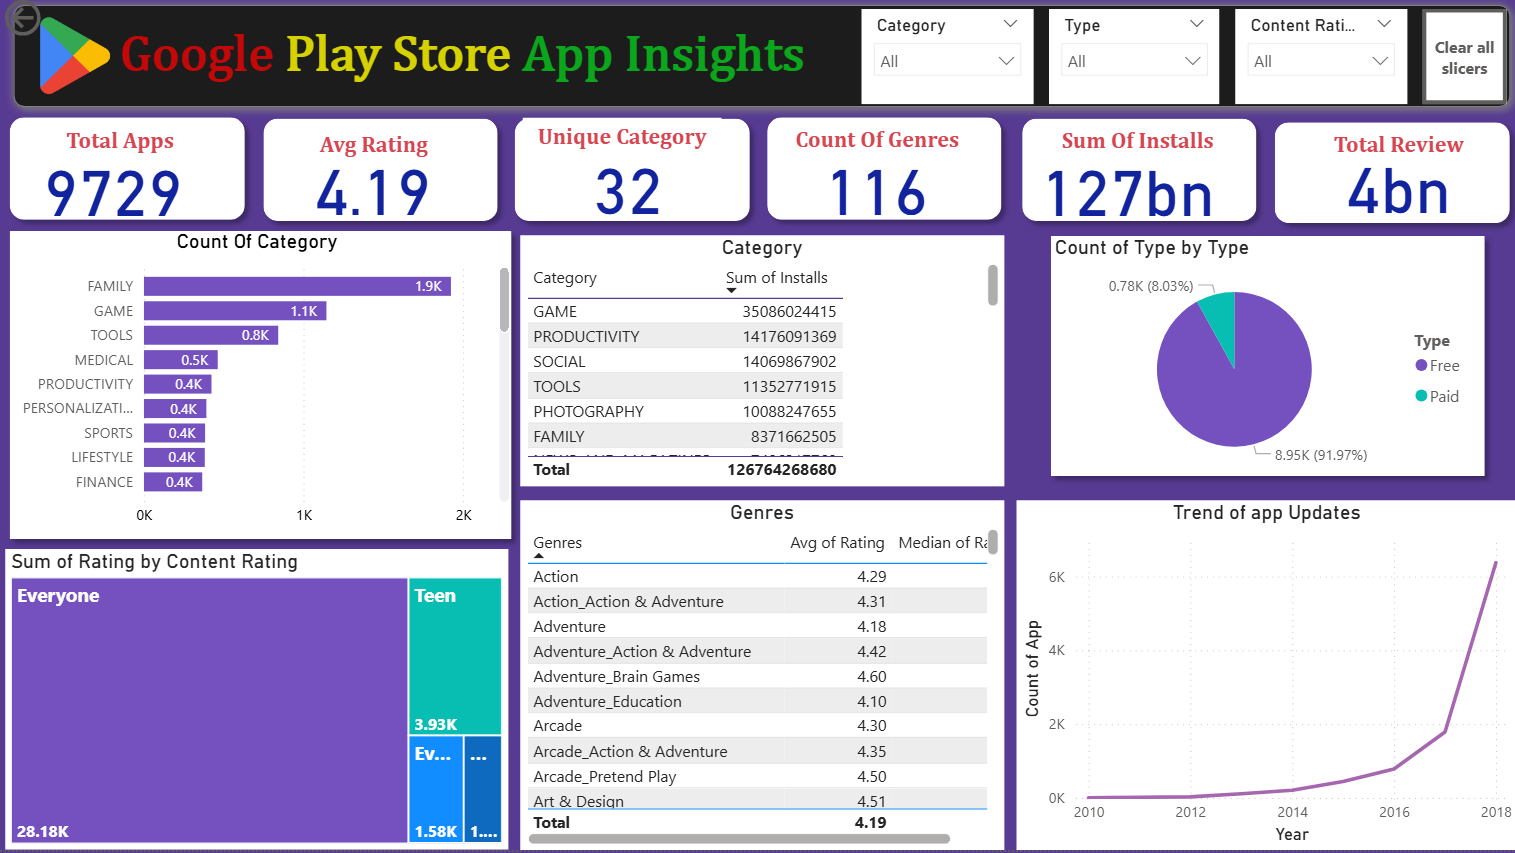

This screenshot's page, from the dashboard's own definition file:
{"tool":"powerbi","page":{"name":"Page 1","canvas":[1280,720],"ordinal":0},"visuals":[{"type":"shape","box":[2.9,0,1277.1,104.3],"z":0},{"type":"image","box":[0,1.4,128.6,101.4],"z":1000},{"type":"textbox","box":[0,12.9,792.9,84.3],"z":2000},{"type":"shape","box":[36.8,281.9,354.3,90],"z":3000},{"type":"slicer","fields":{"Values":["googleplaystore.Type"]},"box":[46.7,232.1,388,85.3],"z":4000},{"type":"shape","box":[213.3,95.7,215,104.3],"z":5000},{"type":"card","fields":{"Values":["Avg(googleplaystore.Rating)"]},"box":[224.3,127.8,181.4,62.9],"z":6000},{"type":"shape","box":[0,94.3,215.7,104.3],"z":7000},{"type":"textbox","box":[243.7,110.3,142.7,36],"z":8000},{"type":"card","fields":{"Values":["CountNonNull(googleplaystore.App)"]},"box":[18.6,78.6,154.3,164.3],"z":9000},{"type":"textbox","box":[30,107.1,142.9,38.6],"z":10000},{"type":"shape","box":[424.3,95.7,215.7,104.3],"z":11000},{"type":"card","fields":{"Values":["Count(googleplaystore.Category)"]},"box":[451.9,118,154.3,82.9],"z":12000},{"type":"shape","box":[1064.3,98.6,215.7,102.9],"z":13000},{"type":"textbox","box":[1105.7,110,142.9,38.6],"z":14000},{"type":"textbox","box":[440.4,104.6,167.1,38.6],"z":15000},{"type":"shape","box":[637.6,94.3,215,104.3],"z":16000},{"type":"card","fields":{"Values":["Count(googleplaystore.Genres)"]},"box":[652.8,127.8,170,62.9],"z":17000},{"type":"textbox","box":[660.4,106.6,157.1,38.6],"z":18000},{"type":"shape","box":[851.9,95.7,215,104.3],"z":19000},{"type":"card","fields":{"Values":["Sum(googleplaystore.Installs)"]},"box":[856.1,127.1,187.1,67.1],"z":20000},{"type":"textbox","box":[886.1,107.1,142.9,38.6],"z":21000},{"type":"card","fields":{"Values":["Sum(googleplaystore.Reviews)"]},"box":[1092.9,127.1,170,62.9],"z":22000},{"type":"shape","box":[0,190,440,277.1],"z":23000},{"type":"barChart","title":"Count Of Category","fields":{"Y":["CountNonNull(googleplaystore.Category)"],"Category":["googleplaystore.Category"]},"box":[0,197.1,434.3,258.6],"z":24000},{"type":"treemap","fields":{"Values":["Sum(googleplaystore.Rating)"],"Group":["googleplaystore.Content Rating"]},"box":[5.7,467.1,422.9,252.9],"z":25000},{"type":"shape","box":[875.7,194.3,382.9,220],"z":26000},{"type":"tableEx","title":"Category","fields":{"Values":["googleplaystore.Category","Sum(googleplaystore.Installs)"]},"box":[438.6,202.9,407.1,211.4],"z":27000},{"type":"tableEx","title":"Genres","fields":{"Values":["googleplaystore.Genres","Avg(googleplaystore.Rating)","Median(googleplaystore.Rating)1"]},"box":[438.6,425.7,407.1,294.3],"z":28000},{"type":"actionButton","box":[0,0,100,40],"z":29000},{"type":"pieChart","fields":{"Category":["googleplaystore.Type"],"Y":["CountNonNull(googleplaystore.Type)"]},"box":[883.3,203.3,362.2,203.3],"z":30000},{"type":"lineChart","title":"Trend of app Updates","fields":{"Y":["CountNonNull(googleplaystore.App)"],"Category":["googleplaystore.Last Updated.Variation.Date Hierarchy.Year","googleplaystore.Last Updated.Variation.Date Hierarchy.Quarter","googleplaystore.Last Updated.Variation.Date Hierarchy.Month","googleplaystore.Last Updated.Variation.Date Hierarchy.Day"]},"box":[855.7,425.7,421.4,294.3],"z":31000},{"type":"slicer","fields":{"Values":["googleplaystore.Category"]},"box":[725.6,12.2,144.4,80],"z":32000},{"type":"slicer","fields":{"Values":["googleplaystore.Type"]},"box":[883.3,12.2,143.3,80],"z":33000},{"type":"slicer","fields":{"Values":["googleplaystore.Content Rating"]},"box":[1040,12.2,144.4,80],"z":34000},{"type":"actionButton","box":[1197.7,12.2,70.4,79.8],"z":35000}]}

Visuals, with their boxes in screenshot pixels (x1, y1, x2, y2), scaled from the page's 1280x720 canvas onto the 1515x853 screenshot:
shape: <bbox>3, 0, 1514, 124</bbox>
image: <bbox>0, 2, 152, 122</bbox>
textbox: <bbox>0, 15, 938, 115</bbox>
shape: <bbox>44, 334, 463, 441</bbox>
slicer - googleplaystore.Type: <bbox>55, 275, 515, 376</bbox>
shape: <bbox>252, 113, 507, 237</bbox>
card - Avg(googleplaystore.Rating): <bbox>265, 151, 480, 226</bbox>
shape: <bbox>0, 112, 255, 235</bbox>
textbox: <bbox>288, 131, 457, 173</bbox>
card - CountNonNull(googleplaystore.App): <bbox>22, 93, 205, 288</bbox>
textbox: <bbox>36, 127, 205, 173</bbox>
shape: <bbox>502, 113, 758, 237</bbox>
card - Count(googleplaystore.Category): <bbox>535, 140, 717, 238</bbox>
shape: <bbox>1260, 117, 1514, 239</bbox>
textbox: <bbox>1309, 130, 1478, 176</bbox>
textbox: <bbox>521, 124, 719, 170</bbox>
shape: <bbox>755, 112, 1009, 235</bbox>
card - Count(googleplaystore.Genres): <bbox>773, 151, 974, 226</bbox>
textbox: <bbox>782, 126, 968, 172</bbox>
shape: <bbox>1008, 113, 1263, 237</bbox>
card - Sum(googleplaystore.Installs): <bbox>1013, 151, 1235, 230</bbox>
textbox: <bbox>1049, 127, 1218, 173</bbox>
card - Sum(googleplaystore.Reviews): <bbox>1294, 151, 1495, 225</bbox>
shape: <bbox>0, 225, 521, 553</bbox>
"Count Of Category" barChart: <bbox>0, 234, 514, 540</bbox>
treemap - Sum(googleplaystore.Rating) x googleplaystore.Content Rating: <bbox>7, 553, 507, 852</bbox>
shape: <bbox>1036, 230, 1490, 491</bbox>
"Category" tableEx: <bbox>519, 240, 1001, 491</bbox>
"Genres" tableEx: <bbox>519, 504, 1001, 852</bbox>
actionButton: <bbox>0, 0, 118, 47</bbox>
pieChart - googleplaystore.Type x CountNonNull(googleplaystore.Type): <bbox>1045, 241, 1474, 482</bbox>
"Trend of app Updates" lineChart: <bbox>1013, 504, 1512, 852</bbox>
slicer - googleplaystore.Category: <bbox>859, 14, 1030, 109</bbox>
slicer - googleplaystore.Type: <bbox>1045, 14, 1215, 109</bbox>
slicer - googleplaystore.Content Rating: <bbox>1231, 14, 1402, 109</bbox>
actionButton: <bbox>1418, 14, 1501, 109</bbox>
